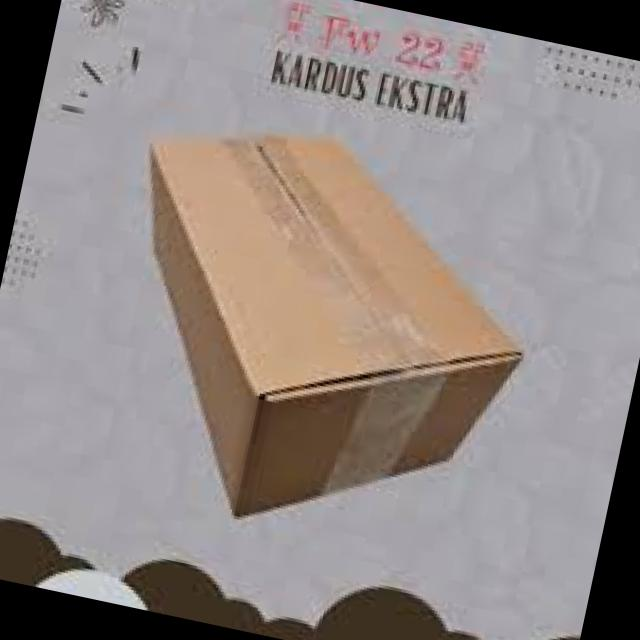box: (148, 133, 526, 517)
